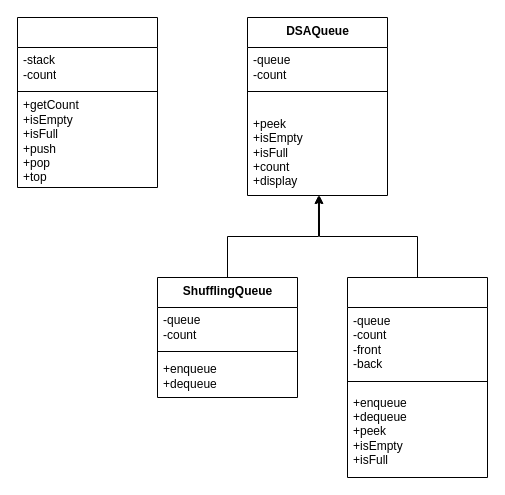
Image size: 505x495. Some labels were removed from this diagram. Here are the shapes that lost their labels. From the top down, the box of each, then its label:
(16, 16, 158, 188): DSAStack
(346, 276, 488, 478): CircularQueue
